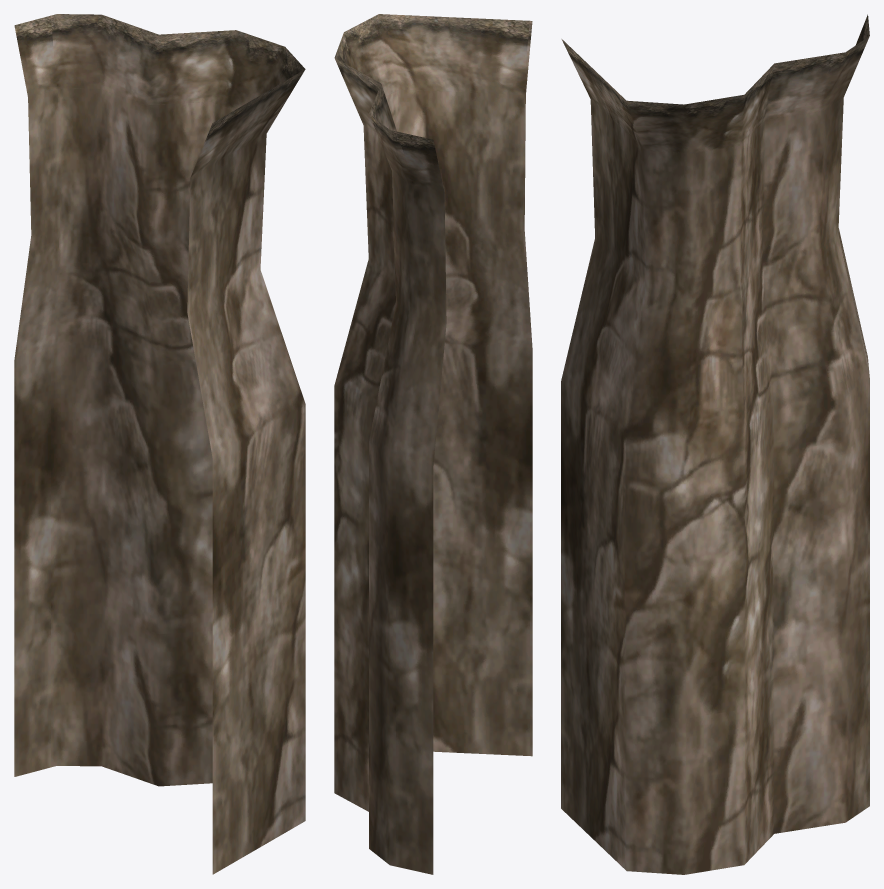
The model's file is OVERHILL_A_01_LINE06.fbx.
3 renders of one model, left to right at view 1: azimuth 30°, elevation 25°; view 2: azimuth 150°, elevation 25°; view 3: azimuth 270°, elevation 25°, orthographic. The views are drawn at different scales.
Visible parts, largest first — view 1: OVERHILL_A_01_LINE06; view 2: OVERHILL_A_01_LINE06; view 3: OVERHILL_A_01_LINE06.
Boxes of the visible parts, box(x1,y1,x2,y2) form: OVERHILL_A_01_LINE06: box(14, 14, 305, 874); OVERHILL_A_01_LINE06: box(334, 14, 532, 874); OVERHILL_A_01_LINE06: box(561, 14, 869, 874).
Size of the model in its own units: 17707 by 70250 by 25524.
2 materials, 2 textured.
